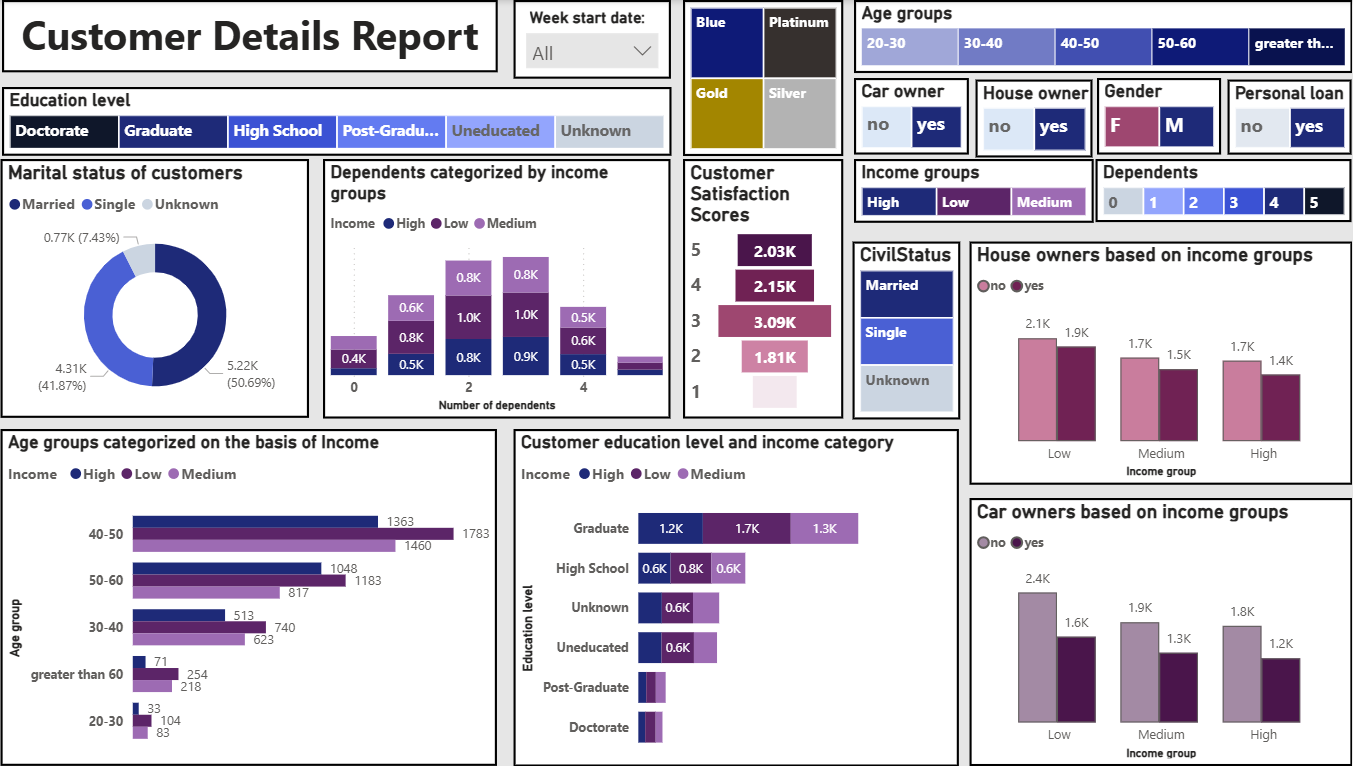

This screenshot's page, from the dashboard's own definition file:
{"tool":"powerbi","page":{"name":"Customer report","canvas":[1280,720],"ordinal":1},"visuals":[{"type":"textbox","box":[10.8,0,466.2,67.7],"z":0},{"type":"treemap","title":"Gender","fields":{"Values":["Count(creditcarddb customer_details.Gender)"],"Group":["creditcarddb customer_details.Gender"]},"box":[1040,73.3,116.7,71.7],"z":1000},{"type":"slicer","fields":{"Values":["creditcarddb creditcard_details.Week_Start_Date"]},"box":[492.3,0,147.7,73.8],"z":2000},{"type":"treemap","fields":{"Group":["creditcarddb creditcard_details.Card_Category"],"Values":["Count(creditcarddb creditcard_details.Card_Category)"]},"box":[651.4,0,150.9,146.6],"z":3000},{"type":"treemap","title":"Age groups","fields":{"Group":["creditcarddb customer_details.AgeGroup"],"Values":["Count(creditcarddb customer_details.AgeGroup)"]},"box":[811.7,0,468.3,68.3],"z":4000},{"type":"treemap","title":"House owner","fields":{"Group":["creditcarddb customer_details.House_Owner"],"Values":["Count(creditcarddb customer_details.House_Owner)"]},"box":[926.7,75,110,73.3],"z":5000},{"type":"treemap","title":"Education level","fields":{"Group":["creditcarddb customer_details.Education_Level"],"Values":["Count(creditcarddb customer_details.Education_Level)"]},"box":[10.8,81.5,629.2,64.6],"z":6000},{"type":"treemap","title":"Car owner","fields":{"Group":["creditcarddb customer_details.Car_Owner"],"Values":["Count(creditcarddb customer_details.Car_Owner)"]},"box":[812.3,73.8,107.7,72.3],"z":7000},{"type":"treemap","title":"Income groups","fields":{"Group":["creditcarddb customer_details.IncomeGroup"],"Values":["Count(creditcarddb customer_details.IncomeGroup)"]},"box":[811.7,150,225,60],"z":8000},{"type":"treemap","title":"Dependents","fields":{"Group":["creditcarddb customer_details.Dependent_Count"],"Values":["Count(creditcarddb customer_details.Dependent_Count)"]},"box":[1039.4,150,240.7,59.4],"z":9000},{"type":"treemap","title":"Personal loan","fields":{"Group":["creditcarddb customer_details.Personal_Loan"],"Values":["Count(creditcarddb customer_details.Personal_Loan)"]},"box":[1162.5,74.8,116.4,69.8],"z":10000},{"type":"clusteredBarChart","title":"Age groups categorized on the basis of Income","fields":{"Category":["creditcarddb customer_details.AgeGroup"],"Series":["creditcarddb customer_details.IncomeGroup"],"Y":["CountNonNull(creditcarddb customer_details.IncomeGroup)"]},"box":[10,403.3,466.7,316.7],"z":11000},{"type":"clusteredColumnChart","title":"House owners based on income groups","fields":{"Category":["creditcarddb customer_details.IncomeGroup"],"Y":["CountNonNull(creditcarddb customer_details.House_Owner)"],"Series":["creditcarddb customer_details.House_Owner"]},"box":[920,226.7,360,228.3],"z":12000},{"type":"clusteredColumnChart","title":"Car owners based on income groups","fields":{"Category":["creditcarddb customer_details.IncomeGroup"],"Y":["CountNonNull(creditcarddb customer_details.Car_Owner)"],"Series":["creditcarddb customer_details.Car_Owner"]},"box":[920,468.3,360,251.7],"z":13000},{"type":"donutChart","title":"Marital status of customers","fields":{"Y":["CountNonNull(creditcarddb customer_details.Marital_Status)"],"Category":["creditcarddb customer_details.Marital_Status"]},"box":[10,150,290,243.3],"z":14000},{"type":"columnChart","title":"Dependents categorized by income groups","fields":{"Category":["creditcarddb customer_details.Dependent_Count"],"Y":["CountNonNull(creditcarddb customer_details.IncomeGroup)"],"Series":["creditcarddb customer_details.IncomeGroup"]},"box":[312.6,150,326.7,243.8],"z":15000},{"type":"barChart","title":"Customer education level and income category","fields":{"Category":["creditcarddb customer_details.Education_Level"],"Series":["creditcarddb customer_details.IncomeGroup"],"Y":["CountNonNull(creditcarddb customer_details.Education_Level)"]},"box":[492.1,403.2,418.8,317.2],"z":16000},{"type":"funnel","title":"Customer Satisfaction Scores","fields":{"Y":["CountNonNull(creditcarddb customer_details.Cust_Satisfaction_Score)"],"Category":["creditcarddb customer_details.Cust_Satisfaction_Score"]},"box":[651.4,149.5,150.9,243.9],"z":17000},{"type":"treemap","title":"CivilStatus","fields":{"Group":["creditcarddb customer_details.Marital_Status"],"Values":["Count(creditcarddb customer_details.Marital_Status)"]},"box":[811.2,226.6,101.6,167.2],"z":18000}]}

Visuals, with their boxes in screenshot pixels (x1, y1, x2, y2), scaled from the page's 1280x720 canvas onto the 1353x766 screenshot:
textbox: bbox(11, 0, 504, 72)
"Gender" treemap: bbox(1099, 78, 1223, 154)
slicer - creditcarddb creditcard_details.Week_Start_Date: bbox(520, 0, 676, 79)
treemap - creditcarddb creditcard_details.Card_Category x Count(creditcarddb creditcard_details.Card_Category): bbox(689, 0, 848, 156)
"Age groups" treemap: bbox(858, 0, 1352, 73)
"House owner" treemap: bbox(980, 80, 1096, 158)
"Education level" treemap: bbox(11, 87, 676, 155)
"Car owner" treemap: bbox(859, 79, 972, 155)
"Income groups" treemap: bbox(858, 160, 1096, 223)
"Dependents" treemap: bbox(1099, 160, 1352, 223)
"Personal loan" treemap: bbox(1229, 80, 1352, 154)
"Age groups categorized on the basis of Income" clusteredBarChart: bbox(11, 429, 504, 765)
"House owners based on income groups" clusteredColumnChart: bbox(972, 241, 1352, 484)
"Car owners based on income groups" clusteredColumnChart: bbox(972, 498, 1352, 765)
"Marital status of customers" donutChart: bbox(11, 160, 317, 418)
"Dependents categorized by income groups" columnChart: bbox(330, 160, 676, 419)
"Customer education level and income category" barChart: bbox(520, 429, 963, 765)
"Customer Satisfaction Scores" funnel: bbox(689, 159, 848, 419)
"CivilStatus" treemap: bbox(857, 241, 965, 419)
